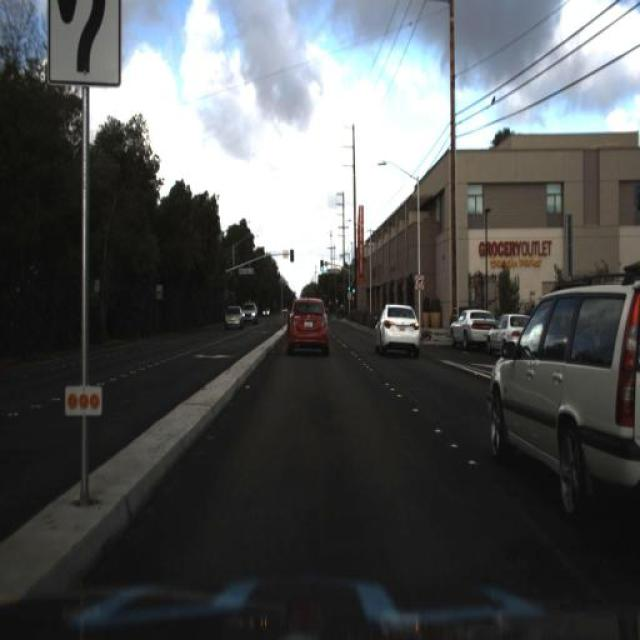car: (483, 278, 639, 586), (281, 289, 347, 365), (370, 288, 426, 362), (450, 304, 484, 350), (220, 302, 248, 334), (239, 298, 265, 328), (222, 306, 244, 330), (246, 300, 258, 330)
